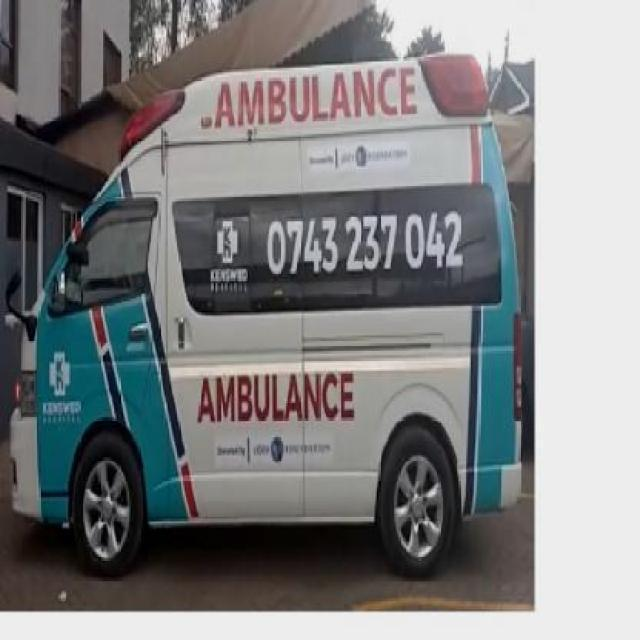emergency: (5, 49, 528, 578)
